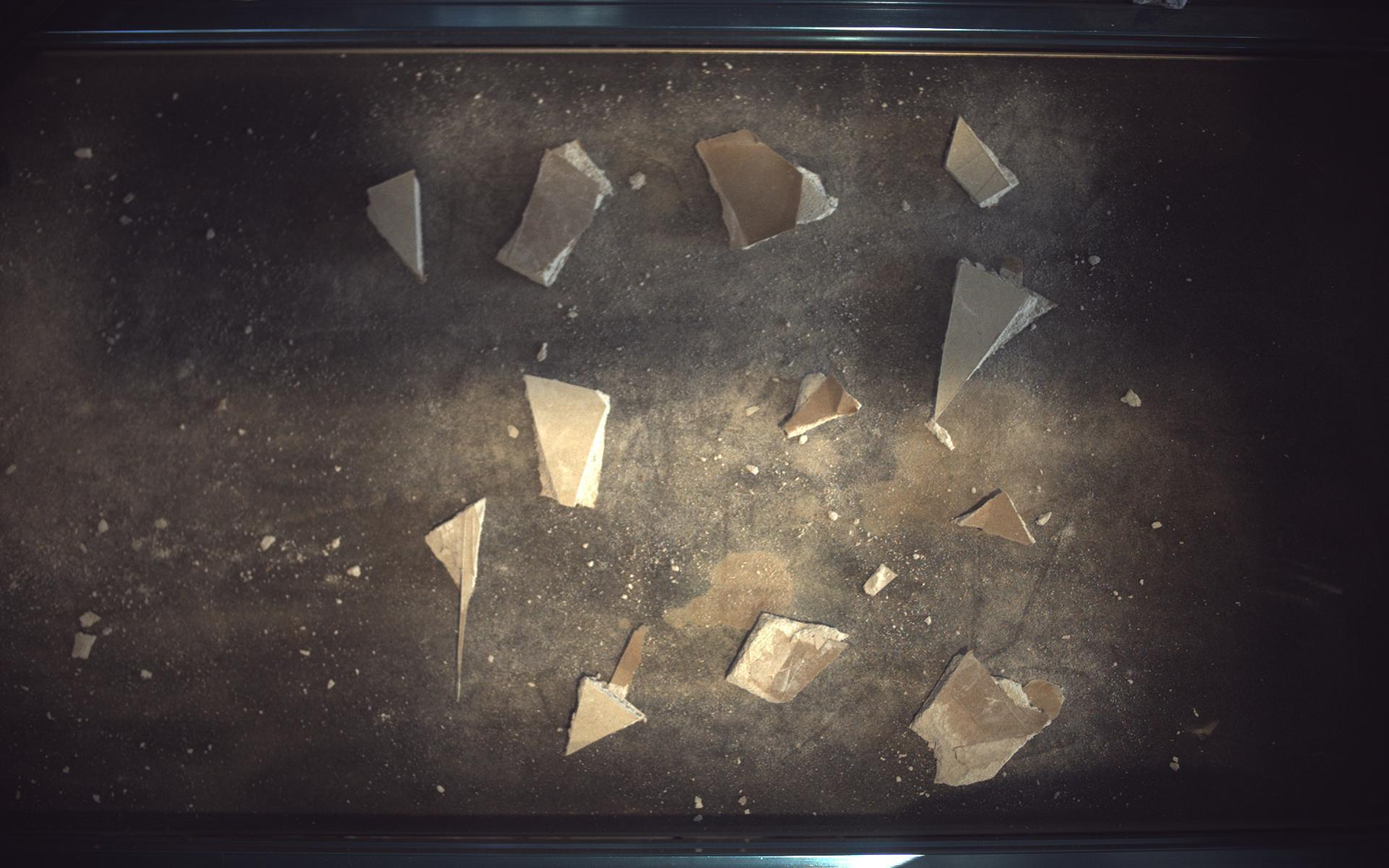gypsum_board: (928, 255, 1058, 450), (913, 651, 1066, 788), (697, 128, 840, 249), (496, 140, 613, 286), (425, 498, 486, 702), (525, 375, 611, 508), (727, 613, 850, 705), (566, 626, 650, 757), (366, 169, 427, 282), (947, 116, 1021, 208), (783, 373, 863, 438), (959, 491, 1037, 545)
